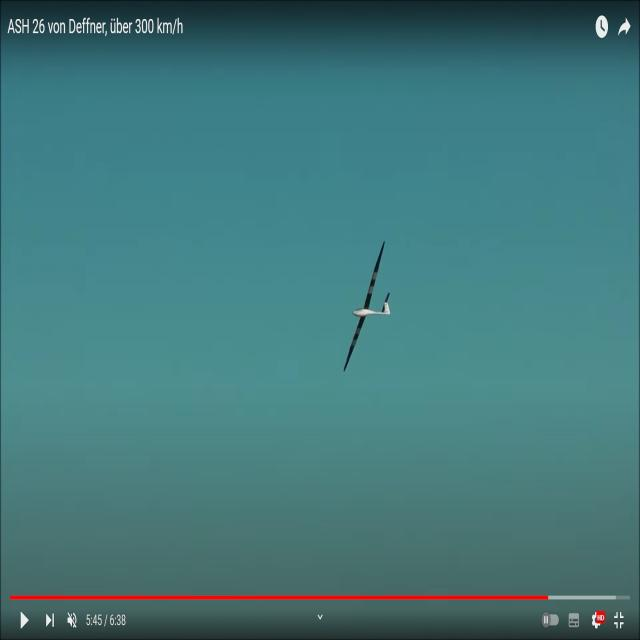iha: (344, 242, 393, 373)
